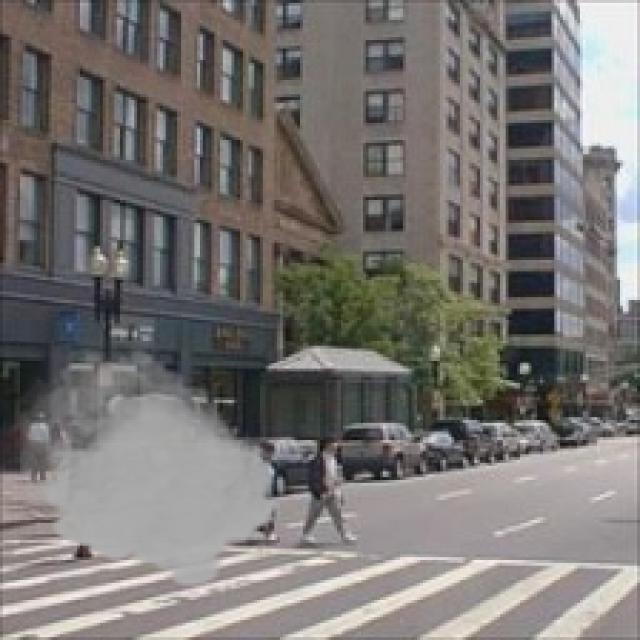Smoke: (20, 341, 283, 588)
